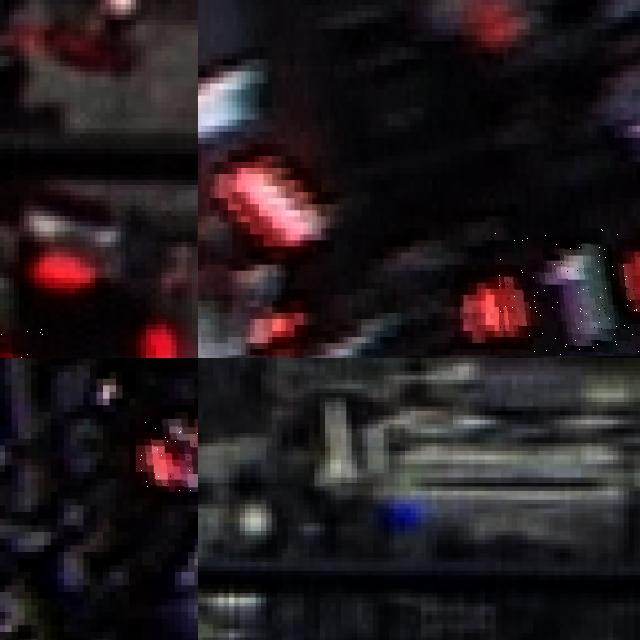R1: (494, 228, 640, 355)
R2: (135, 418, 198, 492)
